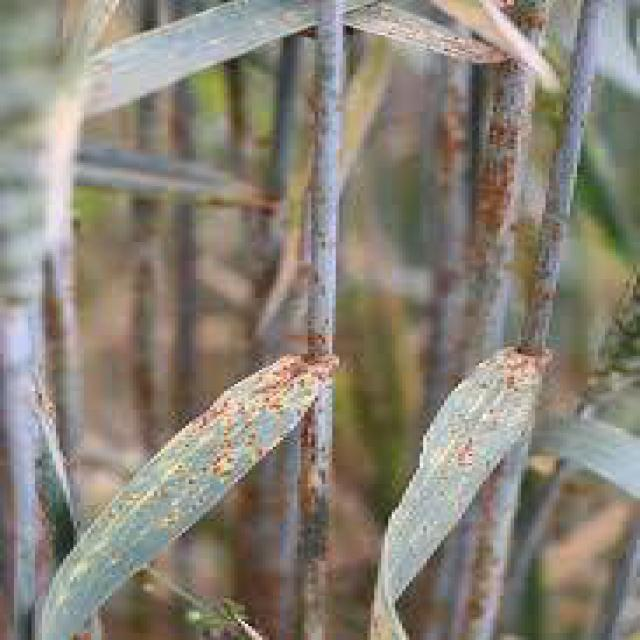Stem_Rust: (137, 0, 613, 640)
